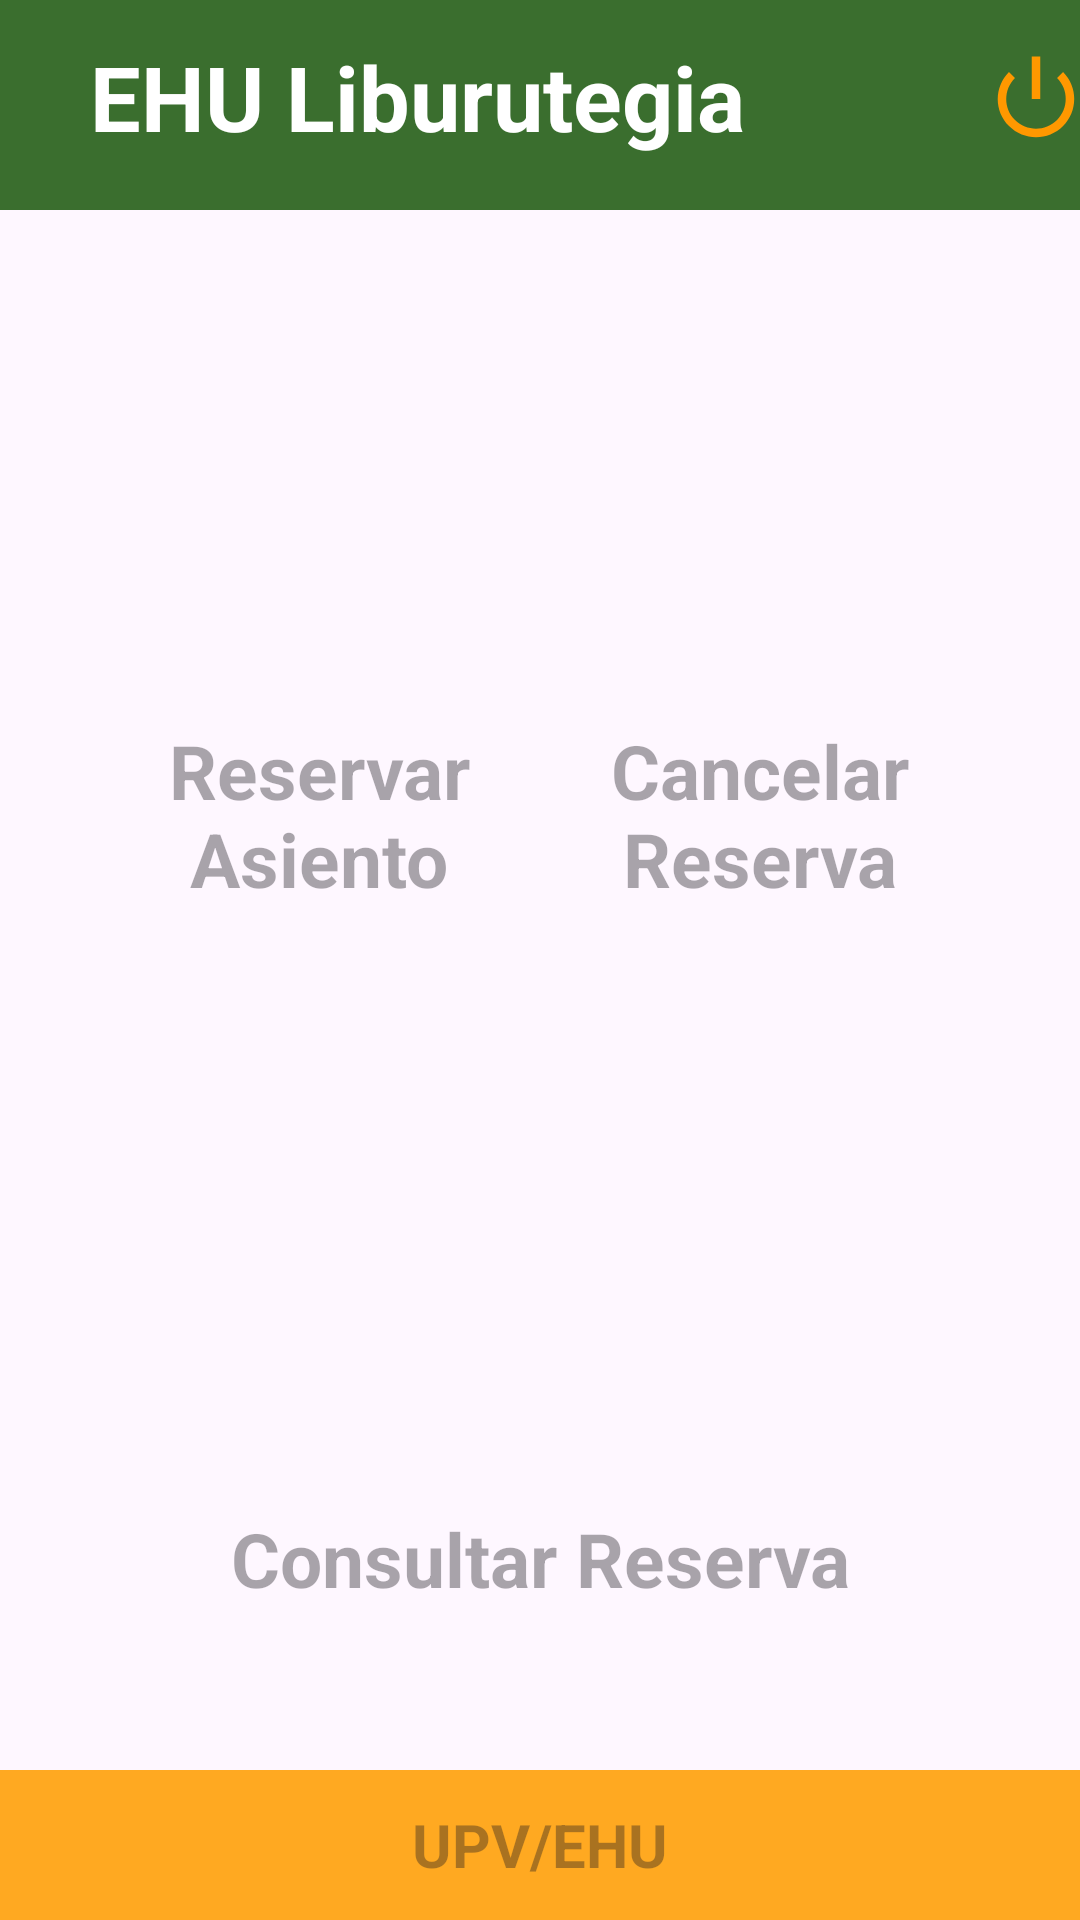

Where icons sit on this 1080*1920 app screen, as region(x1, y1, x2, y2):
lock power off: region(997, 56, 1075, 138)
